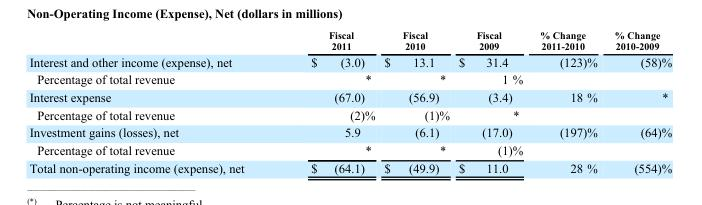table: (28, 29, 671, 174)
table column: (28, 29, 276, 174), (276, 29, 379, 174), (453, 29, 530, 174), (530, 29, 605, 174), (379, 29, 453, 174), (605, 29, 671, 174)
table column header: (28, 29, 671, 52)
table row: (28, 29, 671, 52), (28, 52, 671, 70), (28, 87, 671, 105), (28, 105, 671, 123), (28, 140, 671, 158), (28, 70, 671, 87), (28, 123, 671, 140), (28, 158, 671, 174)
